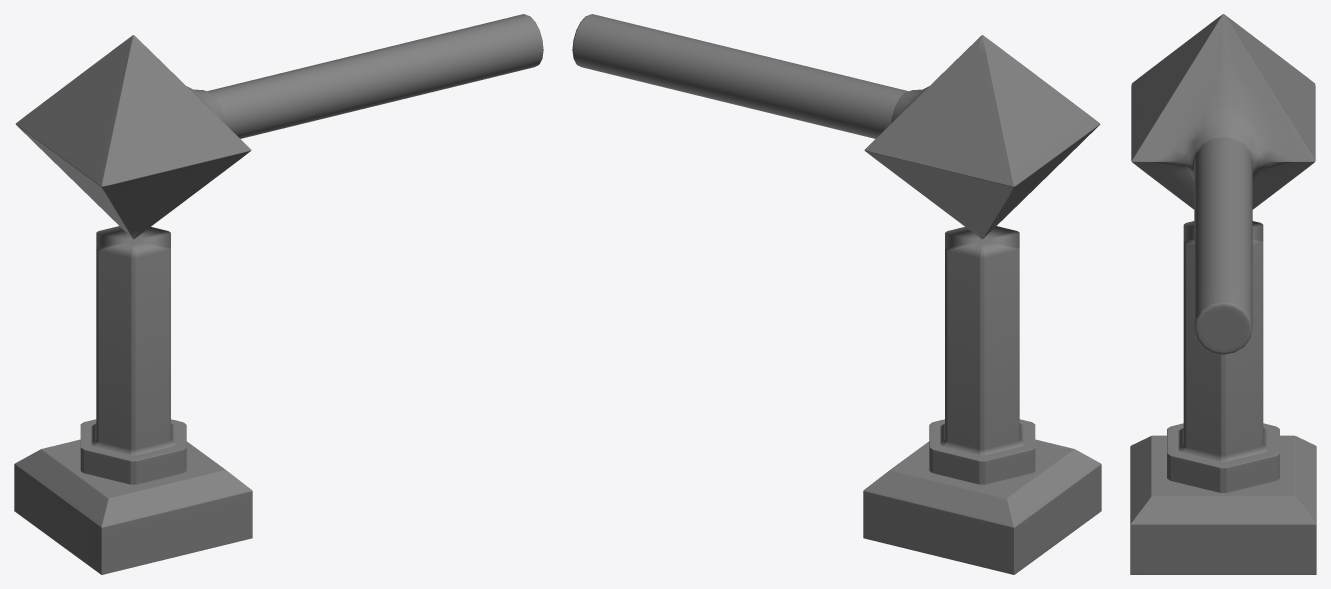
Rendered from turret02.fbx.
3 views of the same model, side by side, from view 1: azimuth 30°, elevation 25°; view 2: azimuth 150°, elevation 25°; view 3: azimuth 270°, elevation 25° (orthographic). The views are drawn at different scales.
Parts seen in each view (by area): view 1: Hedra001, Box001, Object001, Gengon001; view 2: Hedra001, Box001, Object001, Gengon001; view 3: Hedra001, Box001, Object001, Gengon001.
Part boxes in pixels (x1,y1,x2,y2): Hedra001: [15, 14, 543, 239]; Box001: [14, 439, 252, 574]; Object001: [91, 226, 175, 455]; Gengon001: [80, 419, 186, 484]; Hedra001: [572, 14, 1100, 239]; Box001: [863, 439, 1101, 574]; Object001: [940, 226, 1024, 455]; Gengon001: [929, 419, 1035, 484]; Hedra001: [1131, 14, 1315, 354]; Box001: [1130, 435, 1316, 574]; Object001: [1178, 221, 1268, 461]; Gengon001: [1167, 423, 1279, 492].
Size of the model in its own units: 312 by 309 by 100.
